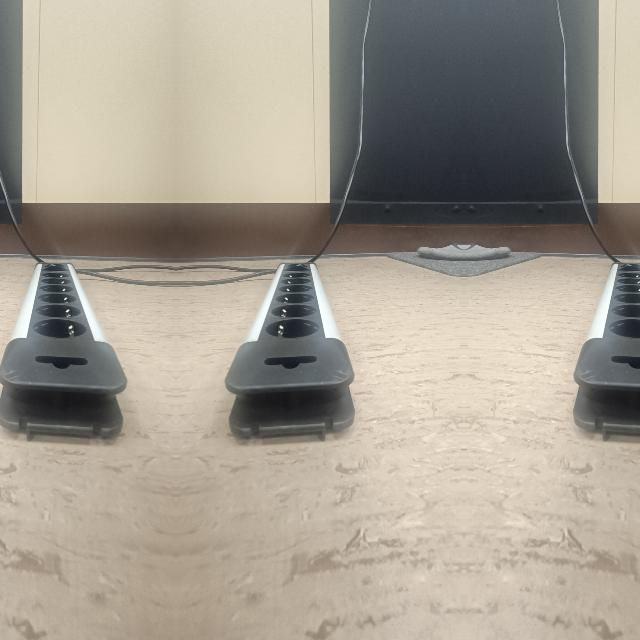obstacle: (226, 251, 356, 439), (0, 251, 124, 439), (570, 251, 640, 439)
